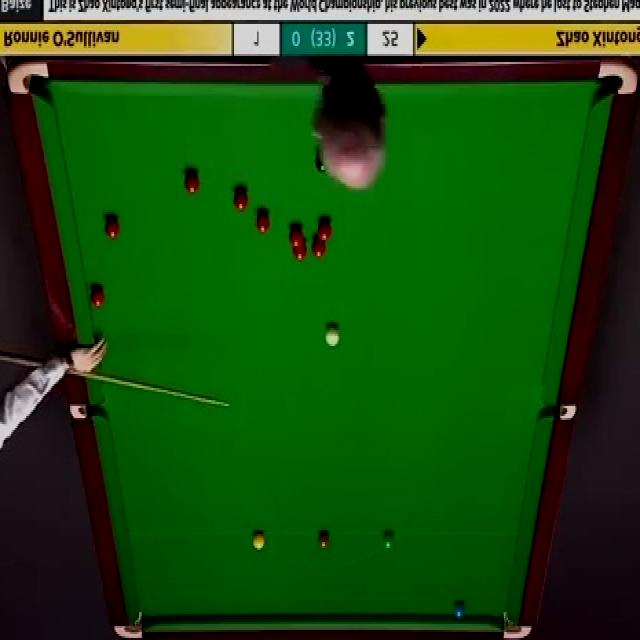black-ball: (314, 145, 331, 174)
blue-ball: (452, 597, 468, 622)
brown-ball: (317, 529, 331, 549)
green-ball: (382, 528, 396, 550)
red-ball: (102, 213, 120, 243), (232, 184, 250, 211), (182, 171, 200, 196), (256, 208, 272, 232), (288, 224, 304, 247), (89, 285, 104, 309), (291, 240, 308, 261), (317, 220, 332, 242), (311, 238, 327, 258)
white-ball: (322, 321, 342, 350)
yellow-ball: (252, 530, 266, 550)
